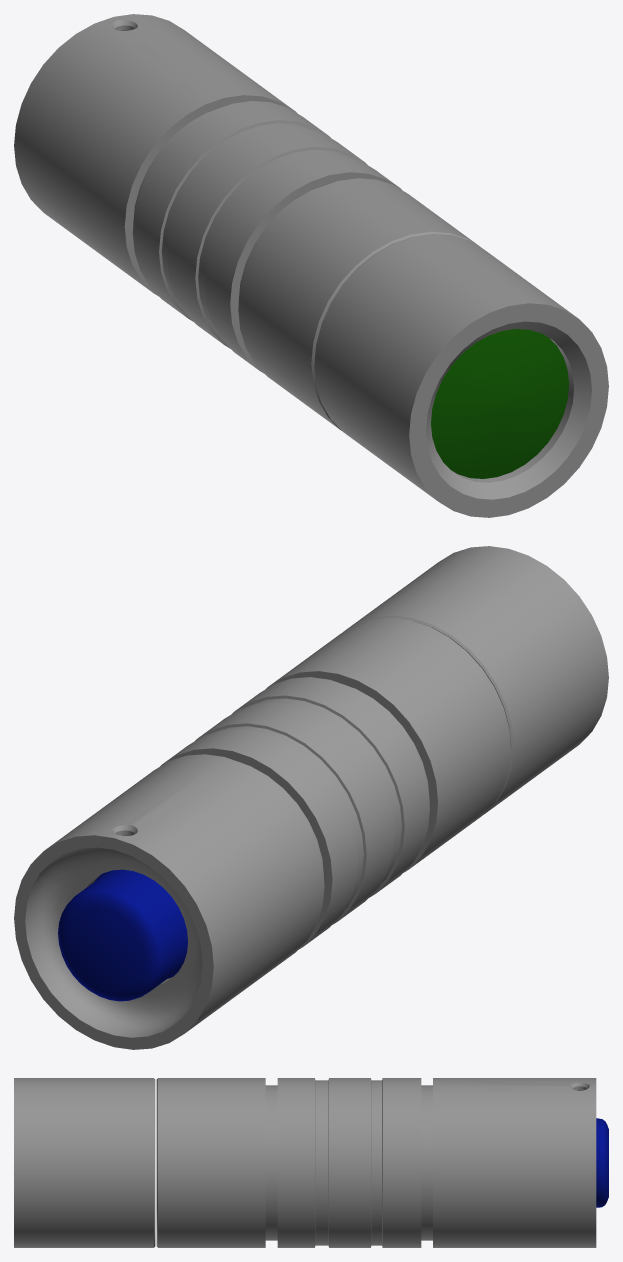
File: FPS_Flashlight G2V3.FBX
3 renders of one model, top to bottom at view 1: azimuth 30°, elevation 25°; view 2: azimuth 150°, elevation 25°; view 3: azimuth 270°, elevation 25°, orthographic. The views are drawn at different scales.
Visible parts, largest first — view 1: Mat1_Body Bottom_FPS, Mat1_Body Top_FPS, Mat4_Glass_FPS; view 2: Mat1_Body Bottom_FPS, Mat1_Body Top_FPS, Mat2_Button_FPS; view 3: Mat1_Body Bottom_FPS, Mat1_Body Top_FPS, Mat2_Button_FPS.
Part boxes in pixels (x1=…): Mat1_Body Bottom_FPS: x1=14, y1=14, x2=482, y2=430; Mat1_Body Top_FPS: x1=314, y1=233, x2=608, y2=517; Mat4_Glass_FPS: x1=431, y1=329, x2=568, y2=478; Mat1_Body Bottom_FPS: x1=14, y1=617, x2=511, y2=1049; Mat1_Body Top_FPS: x1=343, y1=546, x2=608, y2=814; Mat2_Button_FPS: x1=58, y1=869, x2=187, y2=1001; Mat1_Body Bottom_FPS: x1=156, y1=1078, x2=596, y2=1247; Mat1_Body Top_FPS: x1=14, y1=1078, x2=155, y2=1247; Mat2_Button_FPS: x1=596, y1=1118, x2=608, y2=1207.
Bounding box in the file's own units: 2.56 × 2.56 × 8.96.
